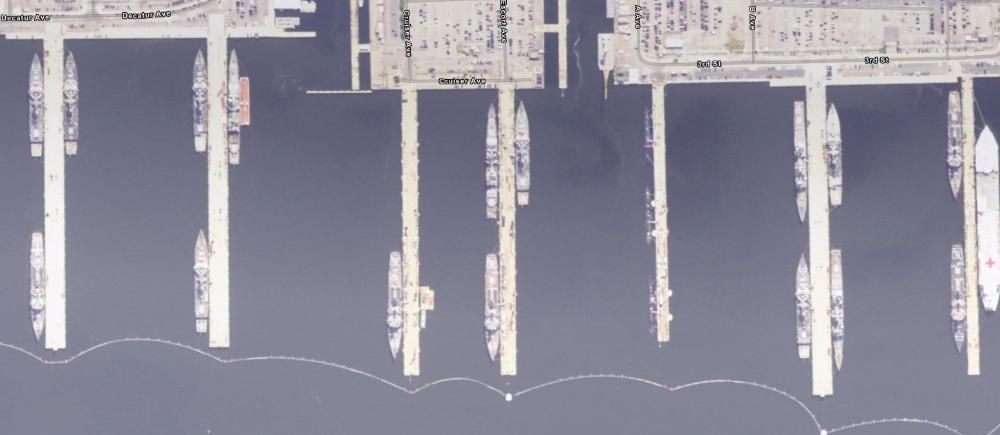destroyer: (788, 97, 812, 228)
fregate: (23, 228, 54, 345), (481, 246, 509, 365), (187, 224, 216, 337), (826, 100, 855, 212), (22, 48, 49, 161), (942, 86, 968, 203), (792, 246, 815, 362), (512, 95, 535, 207), (384, 248, 406, 363), (946, 243, 968, 357), (63, 46, 83, 156)
submarine: (638, 101, 657, 165), (642, 180, 658, 251), (646, 276, 662, 340)
